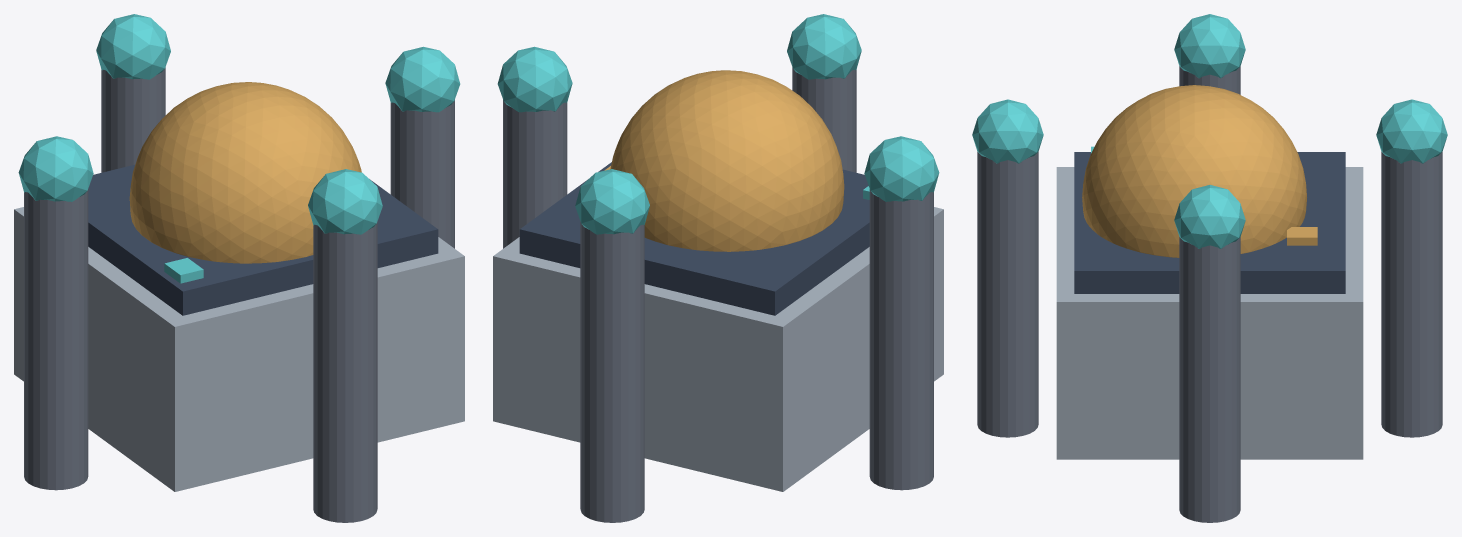
File: modulo-porao-comum.glb
3 renders of one model, left to right at view 1: azimuth 30°, elevation 25°; view 2: azimuth 150°, elevation 25°; view 3: azimuth 270°, elevation 25°, orthographic. The views are drawn at different scales.
Visible parts, largest first — view 1: part000, part002, part006, part008, part001, part004, part010, part005, part007, part011, part009, part012; view 2: part000, part002, part010, part008, part001, part004, part005, part011, part007, part009, part006; view 3: part000, part002, part006, part010, part004, part001, part007, part011, part009, part005, part008, part019.
Part boxes in pixels (left/top/right/bottom): part000: left=14, top=207, right=464, bottom=491; part002: left=129, top=82, right=361, bottom=263; part006: left=313, top=221, right=377, bottom=522; part008: left=24, top=189, right=88, bottom=490; part001: left=88, top=164, right=438, bottom=315; part004: left=390, top=100, right=454, bottom=248; part010: left=101, top=67, right=165, bottom=172; part005: left=385, top=46, right=460, bottom=112; part007: left=308, top=169, right=382, bottom=234; part011: left=96, top=14, right=170, bottom=79; part009: left=18, top=136, right=93, bottom=201; part012: left=164, top=258, right=203, bottom=283; part000: left=493, top=207, right=943, bottom=491; part002: left=610, top=70, right=844, bottom=251; part010: left=580, top=221, right=644, bottom=522; part008: left=869, top=189, right=933, bottom=490; part001: left=519, top=162, right=869, bottom=315; part004: left=503, top=100, right=567, bottom=248; part005: left=497, top=46, right=572, bottom=112; part011: left=575, top=169, right=649, bottom=234; part007: left=787, top=14, right=861, bottom=79; part009: left=864, top=136, right=939, bottom=201; part006: left=792, top=67, right=856, bottom=172; part000: left=1056, top=167, right=1363, bottom=459; part002: left=1082, top=85, right=1306, bottom=257; part006: left=977, top=151, right=1038, bottom=437; part010: left=1381, top=151, right=1442, bottom=437; part004: left=1179, top=237, right=1240, bottom=522; part001: left=1074, top=152, right=1345, bottom=293; part007: left=972, top=99, right=1043, bottom=163; part011: left=1376, top=99, right=1447, bottom=163; part009: left=1174, top=14, right=1245, bottom=78; part005: left=1174, top=185, right=1245, bottom=248; part008: left=1179, top=66, right=1240, bottom=94; part019: left=1287, top=227, right=1317, bottom=245.
Bounding box in the file's own units: 1.86 × 1.42 × 1.86.
